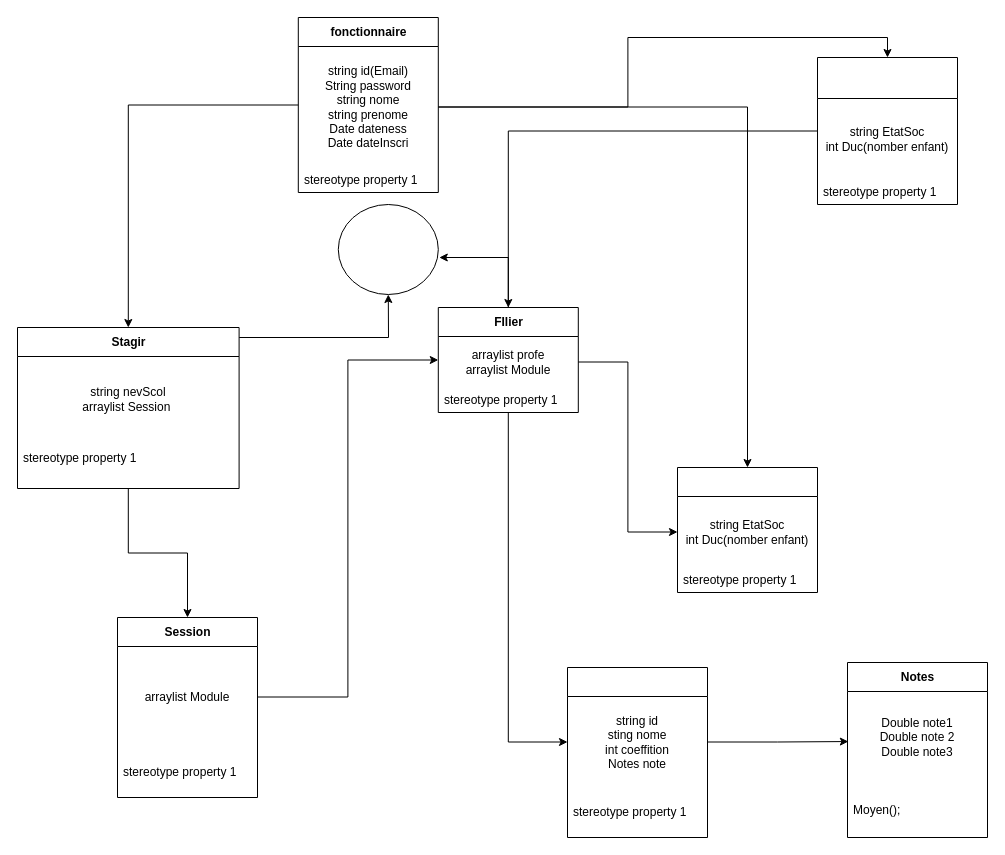
This 1005x855 diagram has some shape labels left out. Each missing label, with the box of its shape:
administration: (816, 56, 958, 204)
Module: (566, 666, 708, 838)
Profe: (676, 466, 818, 592)
